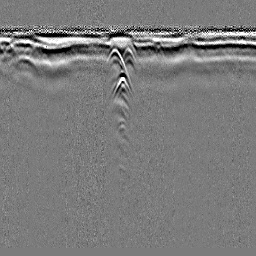cavity: (120, 44, 136, 63)
